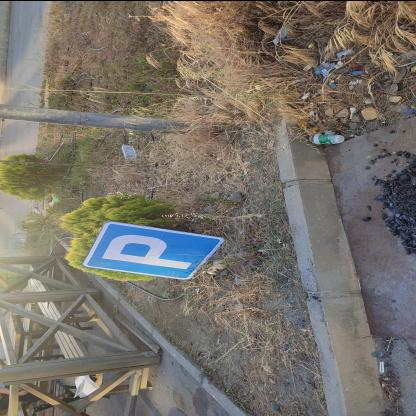Parking-Sign: (82, 219, 229, 282)
